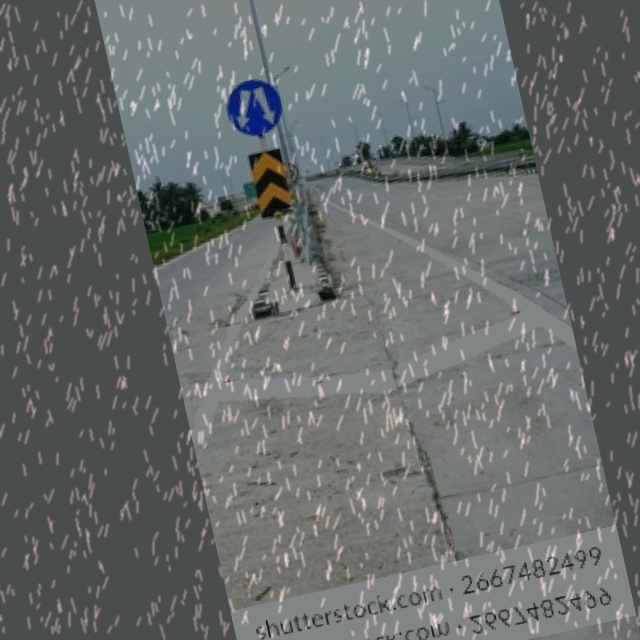Pass_Either_Side: (215, 67, 293, 149)
